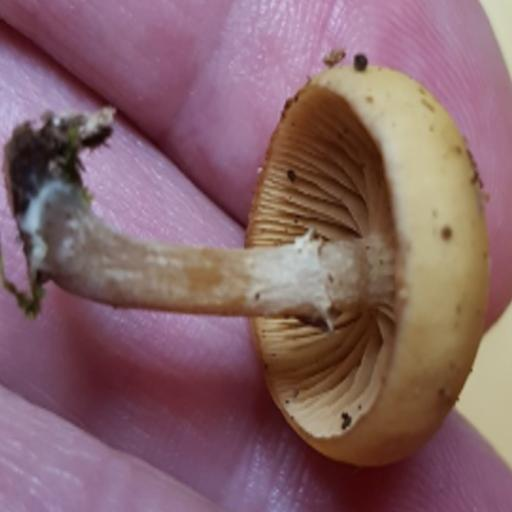mushroom: (162, 21, 492, 470)
